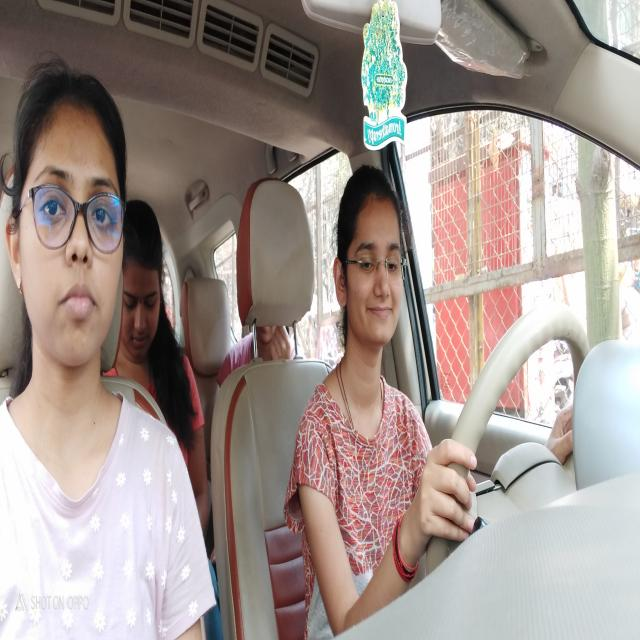person: (1, 56, 133, 380), (331, 164, 415, 351), (122, 200, 170, 366)
